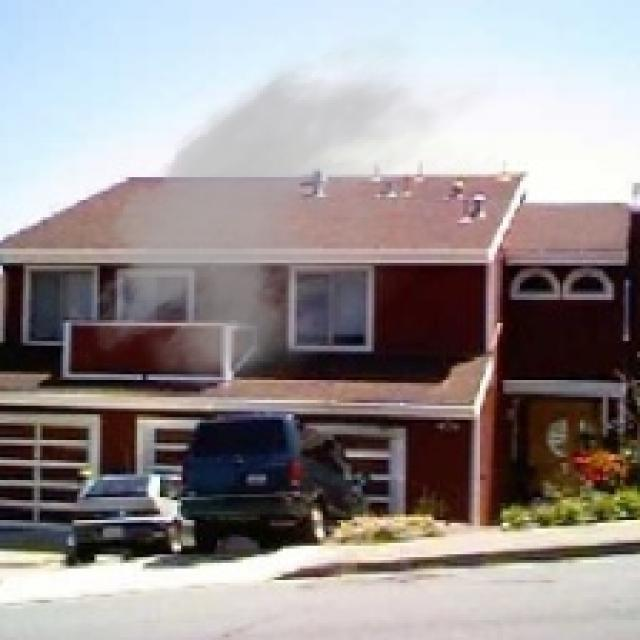Smoke: (80, 22, 497, 414)
